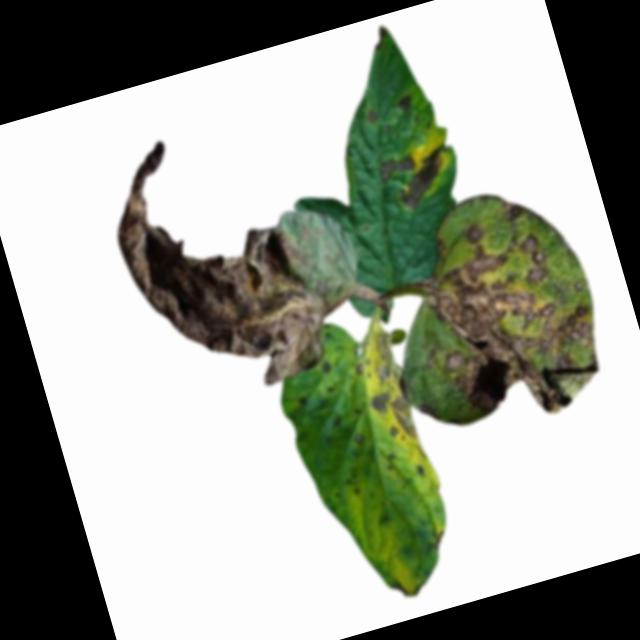Early_blight: (90, 105, 348, 416), (400, 195, 622, 445), (352, 318, 427, 455), (387, 143, 456, 211), (372, 147, 417, 184), (388, 569, 429, 602), (360, 102, 381, 127), (395, 92, 415, 114)
